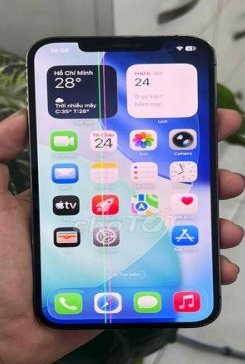screen_defect: (78, 39, 141, 332)
